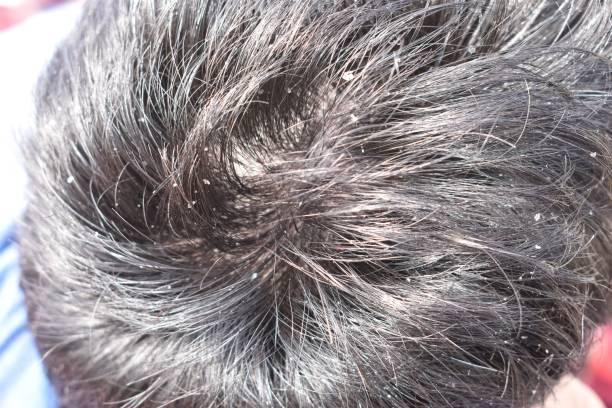dandruff: (186, 161, 218, 195), (328, 66, 372, 84), (575, 142, 606, 164), (398, 269, 416, 292), (515, 328, 534, 349), (528, 209, 546, 229), (242, 268, 264, 284), (289, 194, 306, 211), (345, 111, 362, 127), (59, 175, 82, 185), (282, 85, 294, 96), (464, 45, 476, 55)
